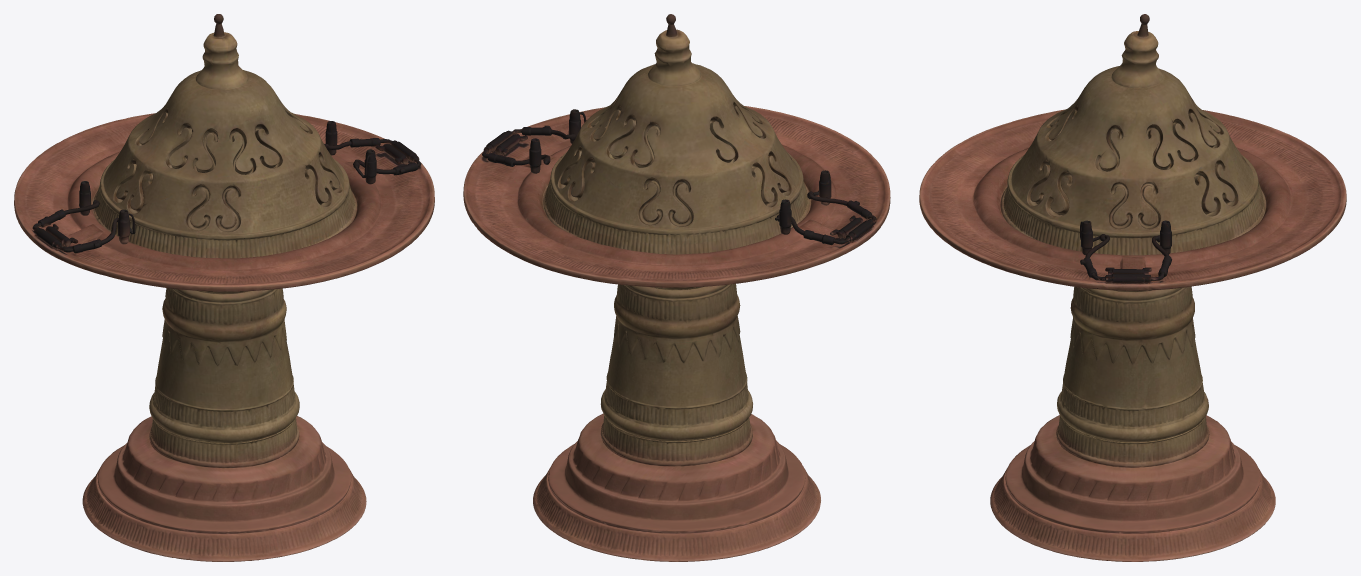
The model's file is mangal.glb.
3 renders of one model, left to right at view 1: azimuth 30°, elevation 25°; view 2: azimuth 150°, elevation 25°; view 3: azimuth 270°, elevation 25°, orthographic.
Bounding box in the file's own units: 1.52 × 1.9 × 1.51.
Materials: 1 (1 with a texture image).
